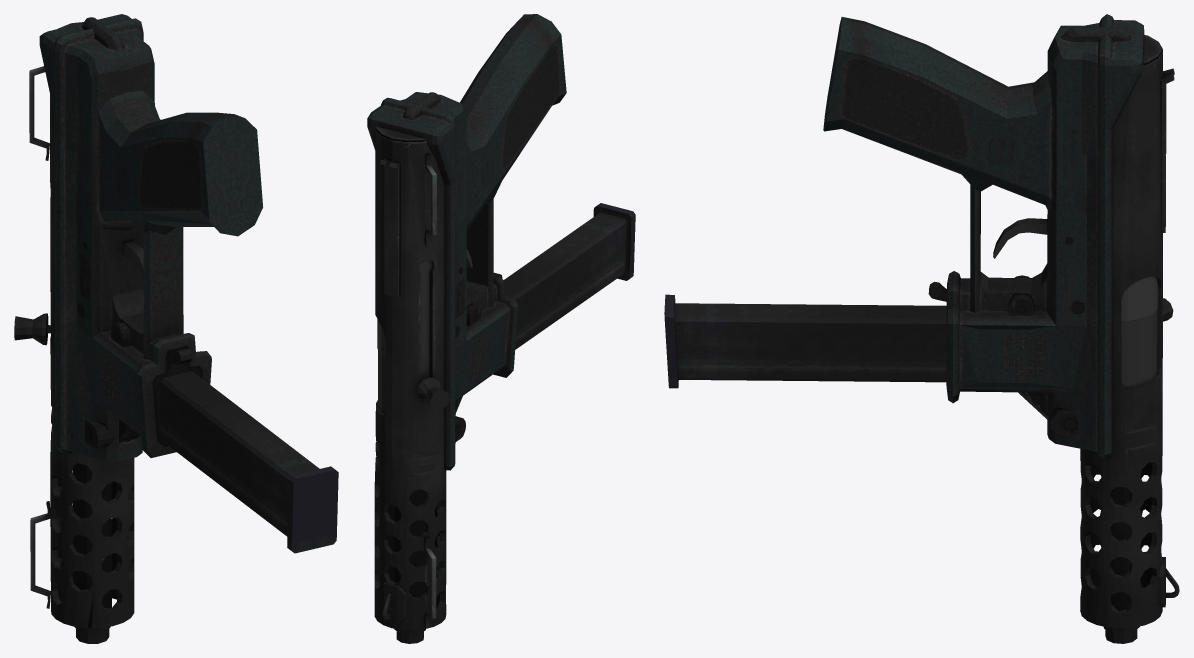
Rendered from w_pist_tec9.obj.
3 views of the same model, side by side, from view 1: azimuth 30°, elevation 25°; view 2: azimuth 150°, elevation 25°; view 3: azimuth 270°, elevation 25° (orthographic). The views are drawn at different scales.
Size of the model in its own units: 0.0232 by 0.1322 by 0.1004.
Materials: 1 (1 with a texture image).
